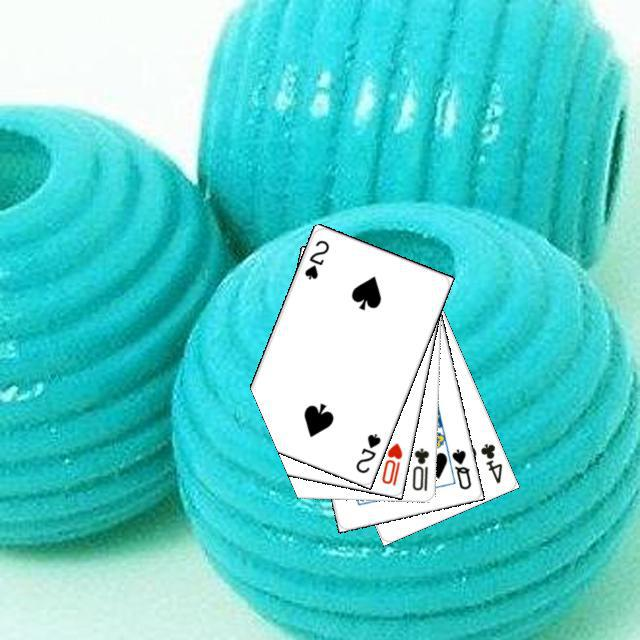10c: (407, 443, 431, 492)
10h: (377, 438, 404, 487)
2s: (351, 429, 383, 475), (299, 235, 331, 281)
4c: (475, 438, 504, 485)
Qs: (447, 444, 473, 491)
